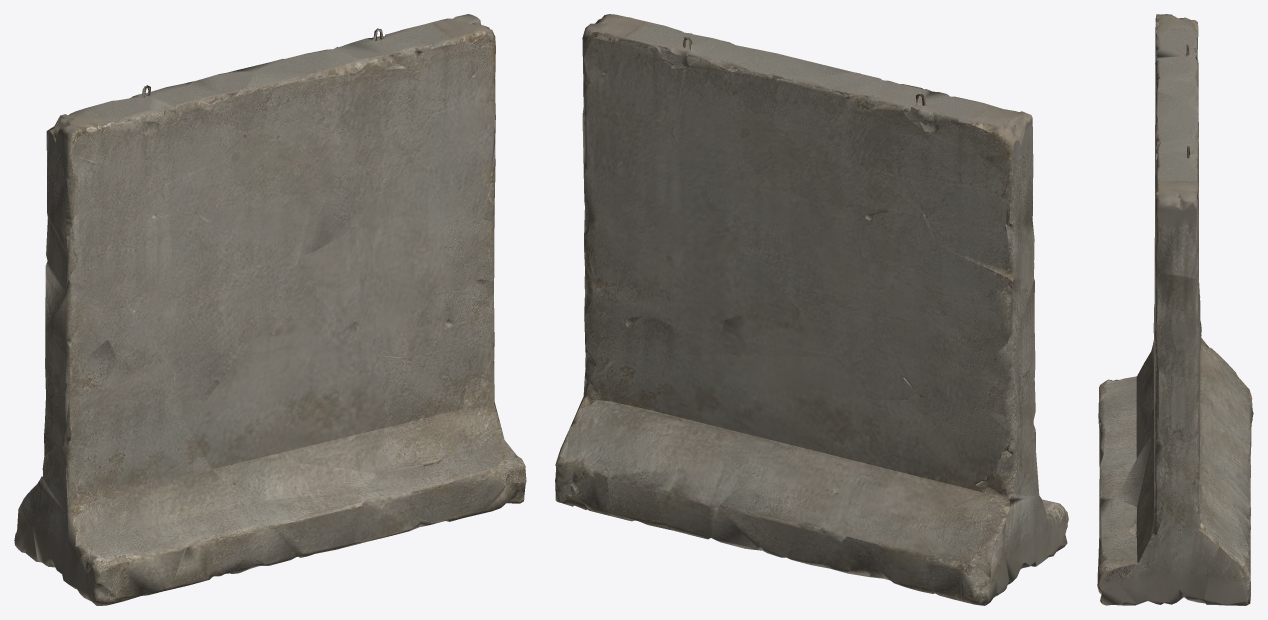
The model's file is concrete.glb.
The picture shows the model from 3 angles, left to right: view 1: azimuth 30°, elevation 25°; view 2: azimuth 150°, elevation 25°; view 3: azimuth 270°, elevation 25°; orthographic projection. The views are drawn at different scales.
Parts seen in each view (by area): view 1: concrete; view 2: concrete; view 3: concrete.
Part boxes in pixels (x1,y1,x2,y2): concrete: (14,14,526,605); concrete: (555,14,1068,605); concrete: (1097,14,1253,605).
Size of the model in its own units: 1.85 by 1.9 by 0.6435.
1 material, 1 textured.
